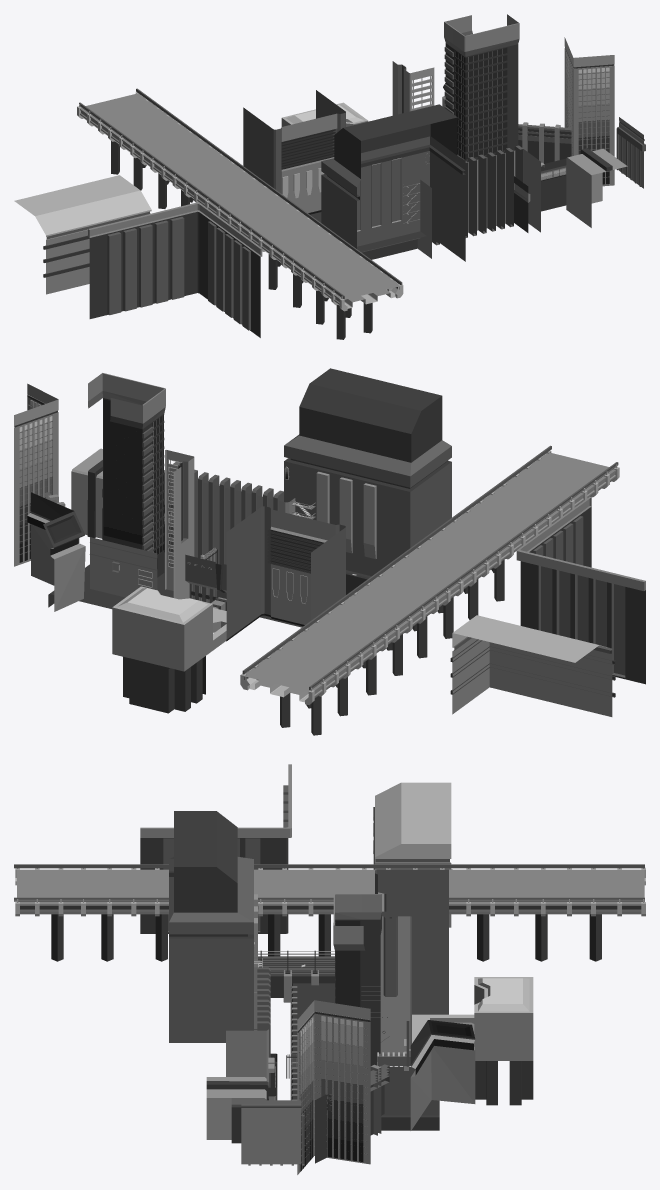
Rendered from factory.FBX.
3 renders of one model, top to bottom at view 1: azimuth 30°, elevation 25°; view 2: azimuth 150°, elevation 25°; view 3: azimuth 270°, elevation 25°, orthographic. The views are drawn at different scales.
Visible parts, largest first — view 1: factory_highway, factory_building_D, factory_building_M, factory_building_N, factory_building_A, factory_building_C, factory_building_E, factory_building_C_window, factory_building_H, factory_building_G, factory_building_H_window, factory_building_F (+5 smaller); view 2: factory_highway, factory_building_D, factory_building_M, factory_building_A, factory_building_N, factory_server_walls_ceiling, factory_building_C_window, factory_building_C, factory_building_L, factory_building_E, factory_building_H, factory_building_B (+6 smaller); view 3: factory_highway, factory_building_D, factory_building_A, factory_building_H, factory_building_N, factory_building_H_window, factory_ground, factory_server_walls_ceiling, factory_building_L, factory_building_C, factory_building_M, factory_building_B (+9 smaller).
Part boxes in pixels (box(x1,y1,x2,y2)): factory_highway: box(77, 88, 403, 339); factory_building_D: box(321, 104, 465, 261); factory_building_M: box(88, 202, 262, 337); factory_building_N: box(14, 175, 151, 294); factory_building_A: box(243, 90, 345, 214); factory_building_C: box(444, 14, 519, 161); factory_building_E: box(417, 145, 540, 258); factory_building_C_window: box(454, 48, 507, 161); factory_building_H: box(564, 37, 614, 186); factory_building_G: box(566, 148, 627, 227); factory_building_H_window: box(566, 53, 609, 184); factory_building_F: box(514, 158, 566, 232); factory_highway: box(240, 445, 619, 735); factory_building_D: box(284, 368, 451, 576); factory_building_M: box(516, 496, 645, 684); factory_building_A: box(226, 506, 345, 641); factory_building_N: box(450, 615, 615, 716); factory_server_walls_ceiling: box(112, 586, 226, 694); factory_building_C_window: box(103, 399, 163, 554); factory_building_C: box(88, 373, 165, 577); factory_building_L: box(27, 492, 85, 611); factory_building_E: box(164, 462, 295, 564); factory_building_H: box(14, 383, 58, 566); factory_building_B: box(165, 450, 194, 599); factory_highway: box(14, 864, 645, 961); factory_building_D: box(169, 811, 257, 1042); factory_building_A: box(375, 869, 448, 1014); factory_building_H: box(297, 1000, 370, 1174); factory_building_N: box(373, 782, 452, 927); factory_building_H_window: box(300, 1016, 363, 1171); factory_ground: box(254, 956, 439, 1130); factory_server_walls_ceiling: box(409, 977, 533, 1060); factory_building_L: box(410, 1020, 475, 1130); factory_building_C: box(333, 894, 381, 1066); factory_building_M: box(140, 764, 291, 933); factory_building_B: box(380, 916, 411, 1053).
Size of the model in its own units: 10905 by 3770 by 9163.
